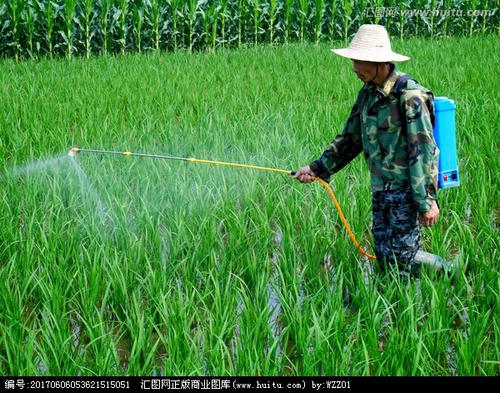berrl: (424, 95, 462, 192)
